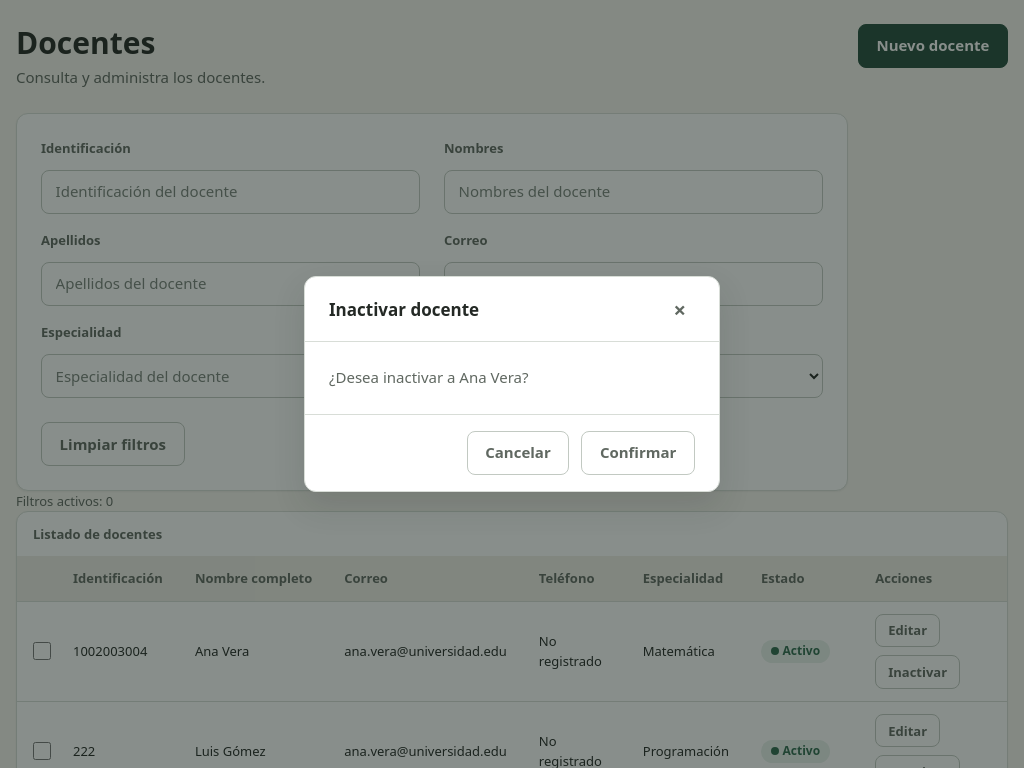
it: ListarDocentesComponent › muestra error al cambiar estado
The width and height of the screenshot is (1024, 768).
Click the button "Confirmar" at (638, 453), box [581, 431, 695, 475]
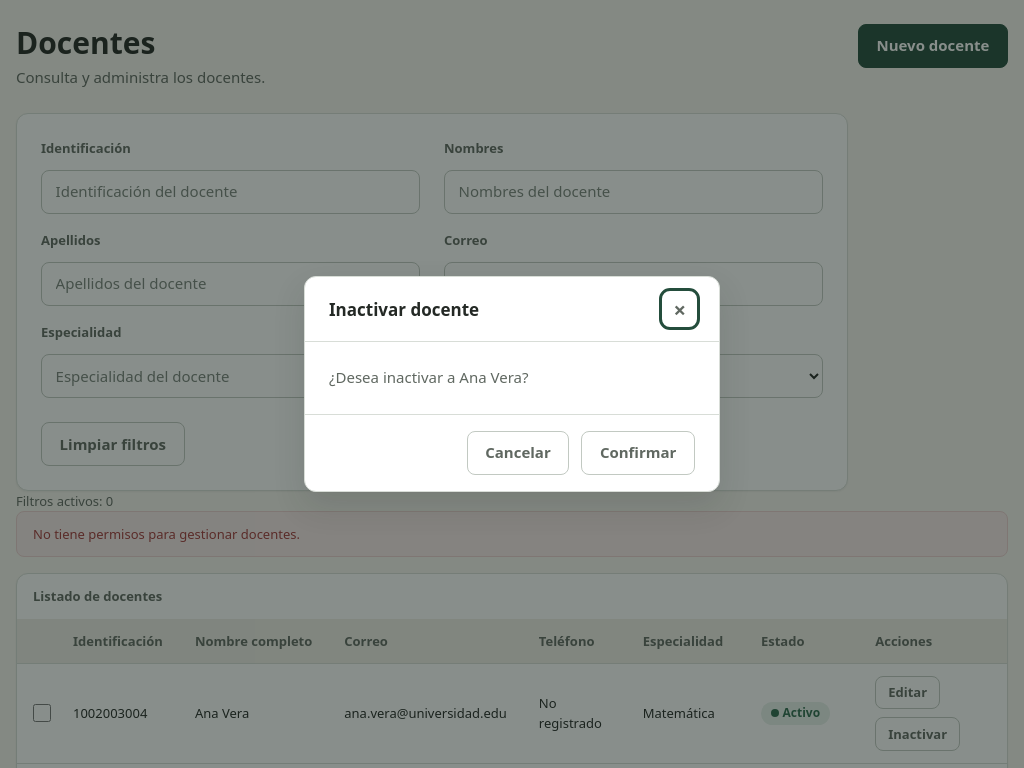
Check: the text "No tiene permisos para gestionar docentes." is shown, box [16, 511, 1008, 557]
